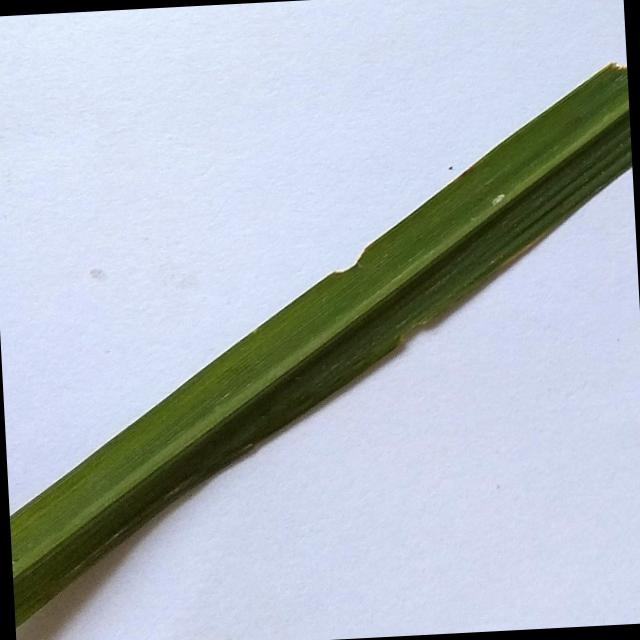Rice_Healthy: (10, 65, 632, 626)
